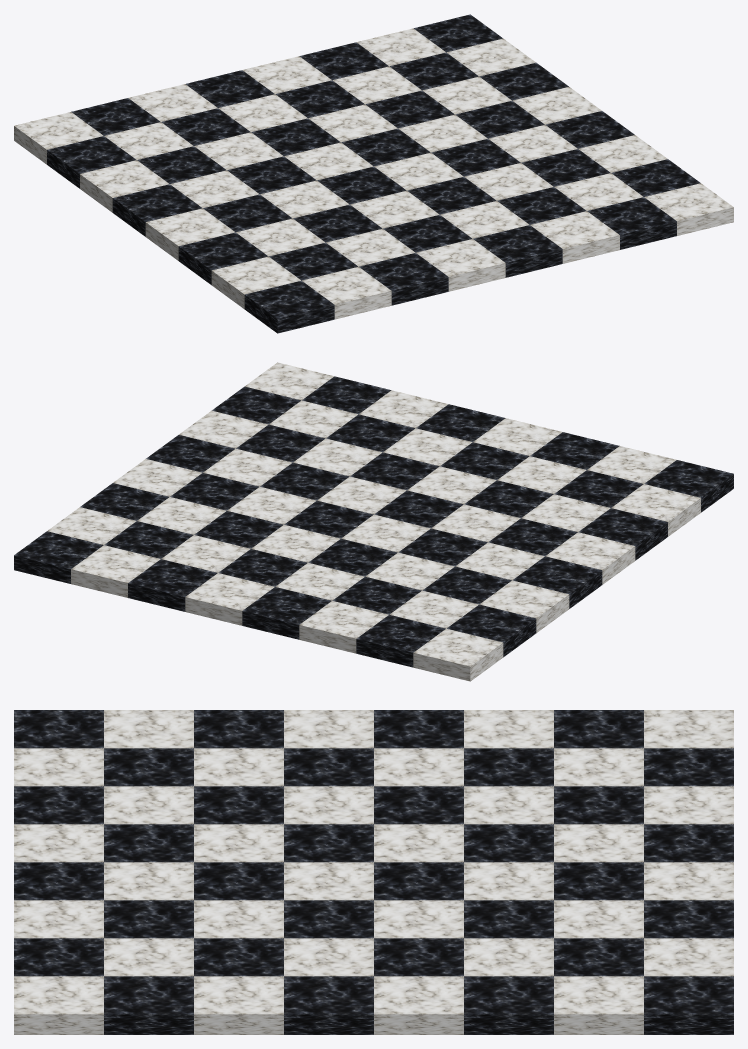
The model's file is chessboard.obj.
3 views of the same model, one above another, from view 1: azimuth 30°, elevation 25°; view 2: azimuth 150°, elevation 25°; view 3: azimuth 270°, elevation 25° (orthographic). The views are drawn at different scales.
Parts seen in each view (by area): view 1: board_Cube.003_white, board_Cube.003_black; view 2: board_Cube.003_black, board_Cube.003_white; view 3: board_Cube.003_white, board_Cube.003_black.
Boxes of the visible parts, x1,y1,x2,y2 form: board_Cube.003_white: (14,28,733,319); board_Cube.003_black: (47,14,700,333); board_Cube.003_black: (14,376,733,667); board_Cube.003_white: (47,362,700,681); board_Cube.003_white: (14,710,733,1034); board_Cube.003_black: (14,710,733,1034).
Bounding box in the file's own units: 16 × 0.5 × 16.
